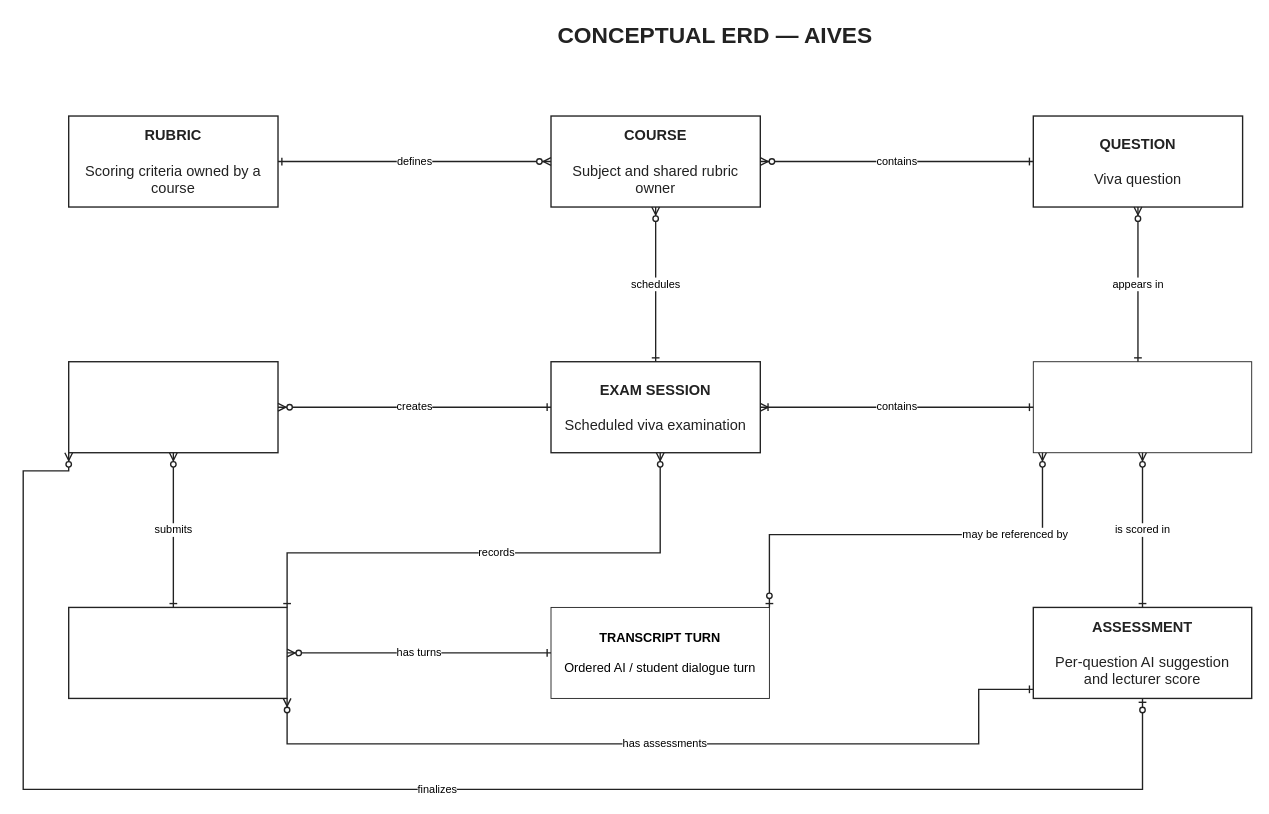
This 1269x814 diagram has some shape labels left out. Here are the shapes that lost their labels. From the top down, the box of each, then its label:
(68, 361, 278, 453): USER Lecturer / Student account
(1032, 361, 1252, 453): SESSION QUESTION Ordered question and rubric snapshot
(68, 606, 287, 699): TRANSCRIPT One student attempt in a session
